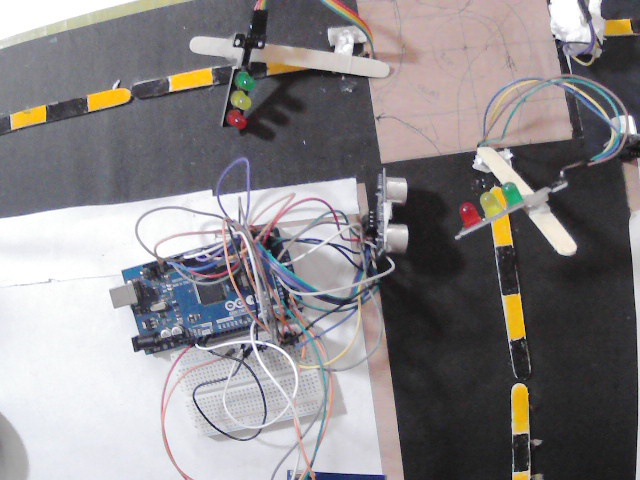black_strip: (494, 243, 518, 293), (124, 74, 168, 96), (47, 95, 86, 119), (508, 339, 530, 380), (511, 432, 531, 471), (214, 62, 238, 84), (0, 113, 11, 134), (630, 15, 640, 35)
mixed_lane: (1, 66, 233, 133), (488, 210, 528, 480), (601, 14, 640, 37), (261, 62, 308, 79), (489, 182, 504, 204)
traffic_light: (456, 177, 524, 228), (222, 66, 256, 129)
uno_breadboard: (104, 219, 308, 353), (175, 326, 334, 442), (373, 169, 411, 253), (600, 114, 640, 153), (286, 469, 386, 480)
yellow_strip: (84, 84, 126, 110), (171, 66, 213, 90), (502, 294, 524, 338), (11, 102, 46, 128), (510, 383, 528, 429), (264, 56, 308, 74), (491, 212, 512, 243), (602, 18, 628, 35), (492, 186, 506, 206), (512, 471, 530, 477)
